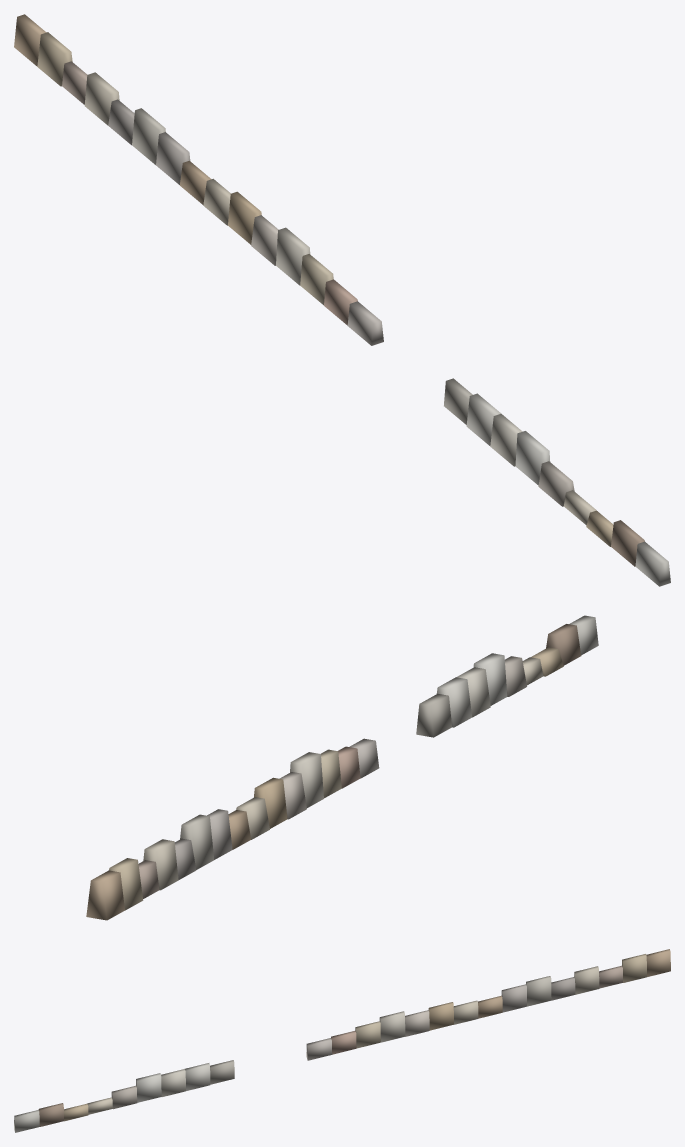
File: farm_3_20_collision.glb
3 renders of one model, top to bottom at view 1: azimuth 30°, elevation 25°; view 2: azimuth 150°, elevation 25°; view 3: azimuth 270°, elevation 25°, orthographic. The views are drawn at different scales.
Visible parts, largest first — view 1: geometry_0; view 2: geometry_0; view 3: geometry_0.
Part boxes in pixels (left/top/right/bottom): geometry_0: left=14, top=14, right=670, bottom=586; geometry_0: left=86, top=615, right=598, bottom=920; geometry_0: left=14, top=949, right=670, bottom=1132.
Bounding box in the file's own units: 6.57 × 9.86 × 41.59.
